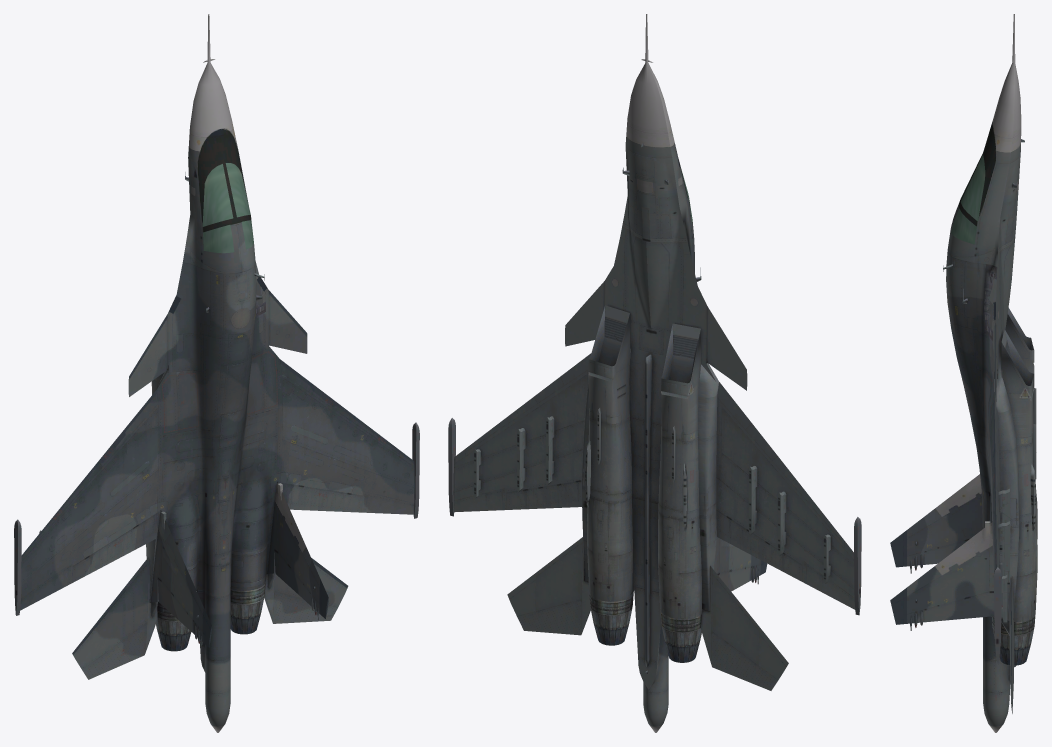
Rendered from Su-34_Fullback.obj.
3 renders of one model, left to right at view 1: azimuth 30°, elevation 25°; view 2: azimuth 150°, elevation 25°; view 3: azimuth 270°, elevation 25°, orthographic.
Visible parts, largest first — view 1: LOD0, ElevatorL01, Glass01, ElevatorR01, FlapL01, FlapR01, Canopy01, CanardL01, BrakeL01, CanardR01, RudderL01, RudderR01; view 2: LOD0, ElevatorL01, ElevatorR01, GearDoorR01, FlapL01, GearDoorF02, FlapR01, CanardL01, CanardR01, GearDoorF03; view 3: LOD0, GearDoorL01, Glass01, RudderR01, Canopy01, ElevatorR01, GearDoorF03, RudderL01, EngineR01, CanardR01.
Boxes of the visible parts, <box> form: LOD0: <box>14,14,419,732</box>; ElevatorL01: <box>72,557,157,679</box>; Glass01: <box>202,163,253,253</box>; ElevatorR01: <box>264,558,348,623</box>; FlapL01: <box>71,513,157,583</box>; FlapR01: <box>282,483,363,512</box>; Canopy01: <box>201,217,255,273</box>; CanardL01: <box>128,314,168,396</box>; BrakeL01: <box>222,335,250,414</box>; CanardR01: <box>268,290,307,353</box>; RudderL01: <box>157,578,194,634</box>; RudderR01: <box>274,550,311,605</box>; LOD0: <box>448,14,861,732</box>; ElevatorL01: <box>701,566,788,690</box>; ElevatorR01: <box>507,537,590,635</box>; GearDoorR01: <box>698,395,721,516</box>; FlapL01: <box>716,510,802,581</box>; GearDoorF02: <box>646,241,669,330</box>; FlapR01: <box>506,480,581,509</box>; CanardL01: <box>706,306,747,390</box>; CanardR01: <box>565,281,604,346</box>; GearDoorF03: <box>633,237,650,327</box>; LOD0: <box>890,14,1037,732</box>; GearDoorL01: <box>998,407,1019,522</box>; Glass01: <box>951,155,985,244</box>; RudderR01: <box>925,591,994,622</box>; Canopy01: <box>947,201,979,262</box>; ElevatorR01: <box>1001,576,1014,713</box>; GearDoorF03: <box>1003,240,1014,333</box>; RudderL01: <box>925,540,968,564</box>; EngineR01: <box>999,645,1030,665</box>; CanardR01: <box>994,323,997,415</box>.
Size of the model in its own units: 13.89 by 23.51 by 4.38.
4 materials, 4 textured.
